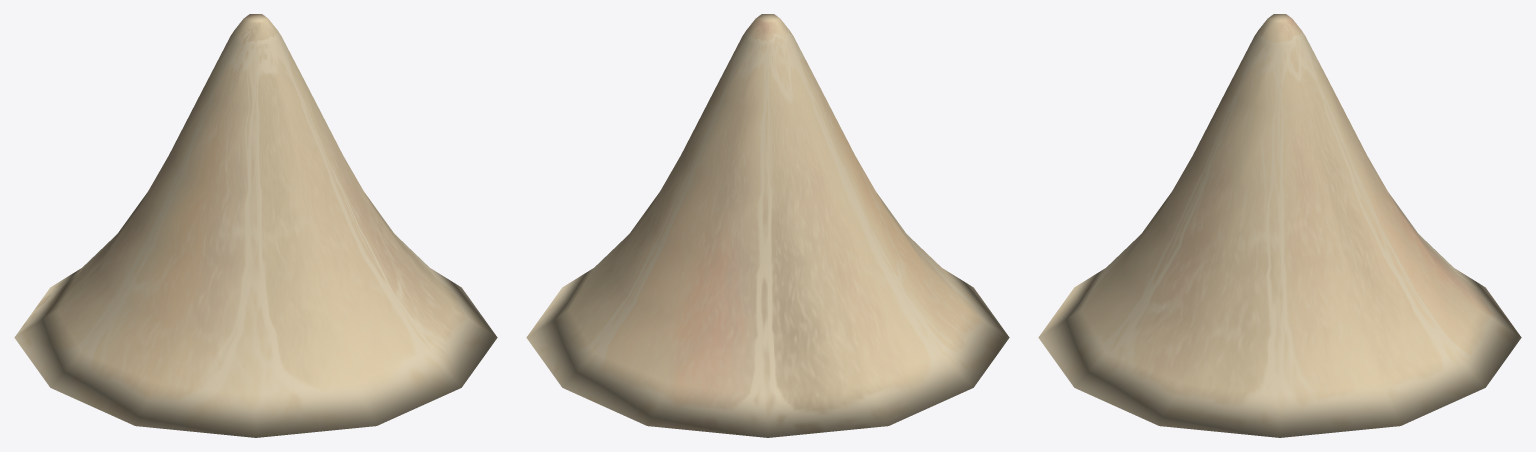
The model's file is towerroof1.fbx.
3 views of the same model, side by side, from view 1: azimuth 30°, elevation 25°; view 2: azimuth 150°, elevation 25°; view 3: azimuth 270°, elevation 25° (orthographic).
Visible parts, largest first — view 1: towerroof1; view 2: towerroof1; view 3: towerroof1.
Boxes of the visible parts, box(x1,y1,x2,y2) form: towerroof1: box(14, 14, 497, 437); towerroof1: box(526, 14, 1009, 437); towerroof1: box(1038, 14, 1521, 437).
Bounding box in the file's own units: 8.65 × 6.63 × 8.8.
